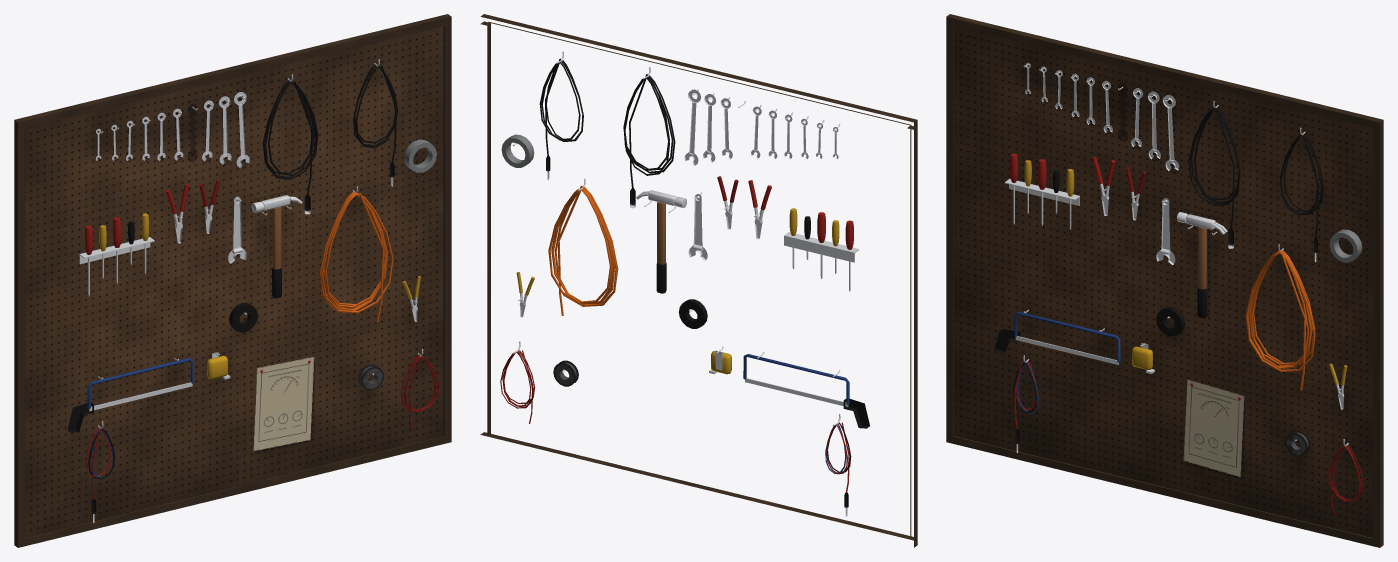
The model's file is pegboard-cables.glb.
3 views of the same model, side by side, from view 1: azimuth 30°, elevation 25°; view 2: azimuth 150°, elevation 25°; view 3: azimuth 330°, elevation 25° (orthographic).
Visible parts, largest first — view 1: pegboard_E05; view 2: pegboard_E05; view 3: pegboard_E05.
Boxes of the visible parts, x1,y1,x2,y2 form: pegboard_E05: (14, 14, 451, 547); pegboard_E05: (480, 14, 917, 547); pegboard_E05: (946, 14, 1383, 547).
Size of the model in its own units: 1.6 by 1.5 by 0.05.
3 materials, 2 textured.
